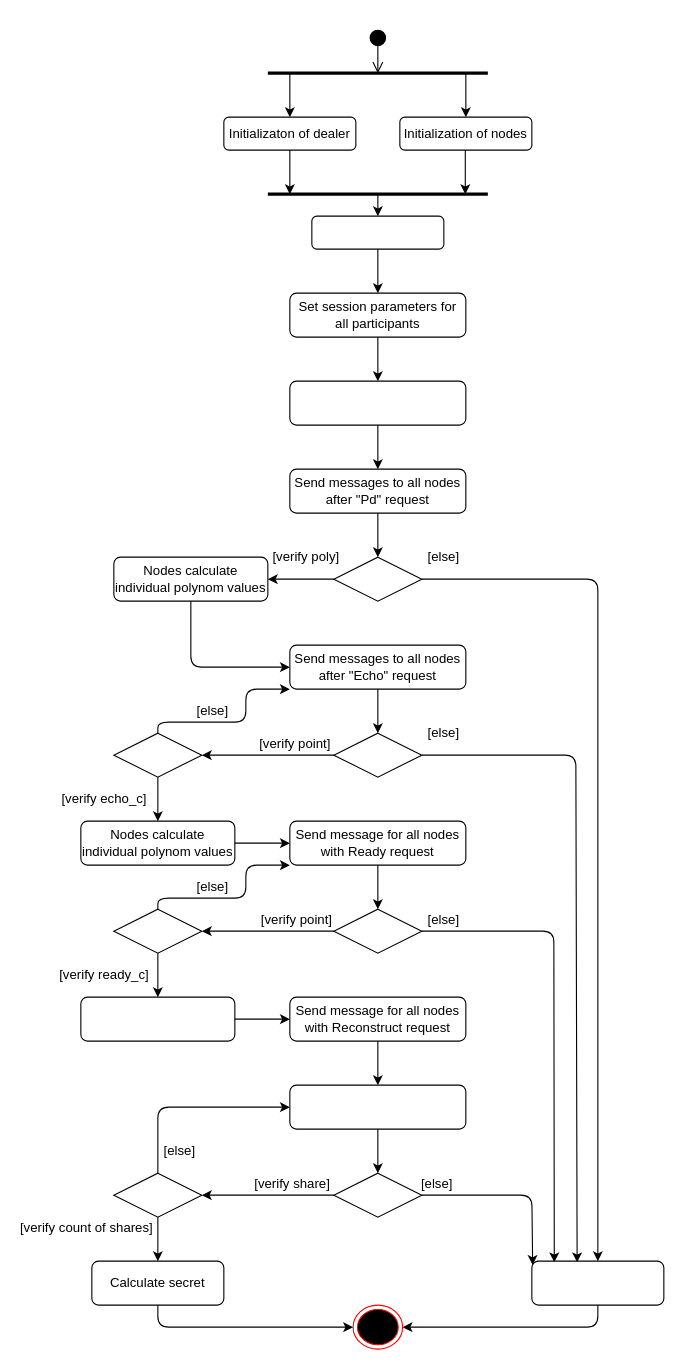
Some shapes in this 684 by 1368 pixel diagram are drawn without their labels. The shapes that lost their labels are listed below. From the top down, each one's centre as x and y in pixels, then its label:
At [377,232]: "Initialization of session".
At [377,402]: "Call dealer to generate key parameters".
At [157,1018]: "Nodes calculate individual secret share".
At [377,1106]: "Send message for all nodes with RecShare request".
At [597,1282]: "Tell participants about problem".
